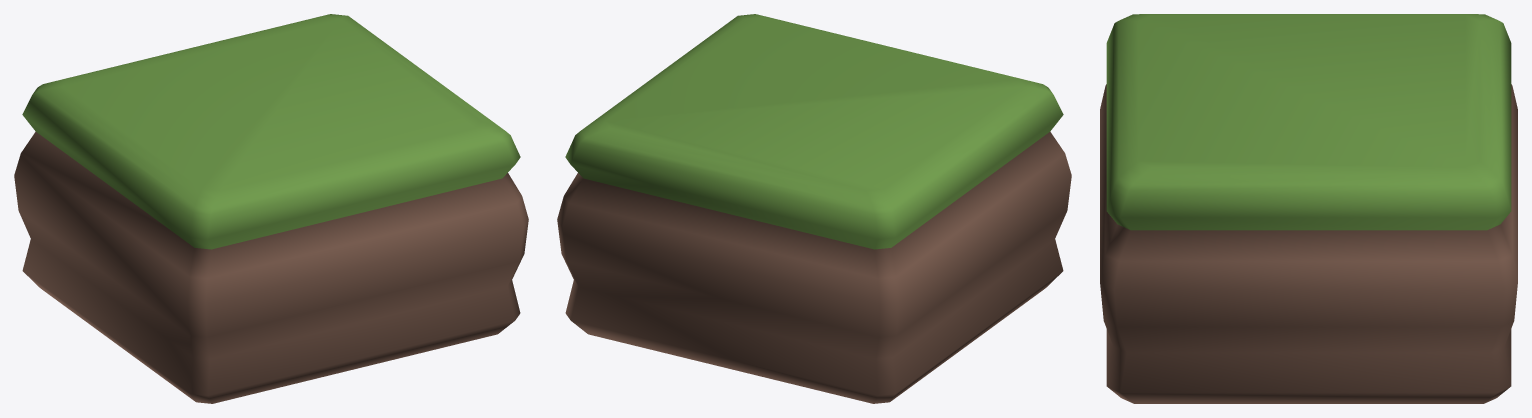
File: Platform _medium.fbx
3 views of the same model, side by side, from view 1: azimuth 30°, elevation 25°; view 2: azimuth 150°, elevation 25°; view 3: azimuth 270°, elevation 25° (orthographic). The views are drawn at different scales.
Visible parts, largest first — view 1: Platform_medium; view 2: Platform_medium; view 3: Platform_medium.
Boxes of the visible parts, x1=… form: Platform_medium: x1=14, y1=14, x2=528, y2=403; Platform_medium: x1=557, y1=14, x2=1071, y2=403; Platform_medium: x1=1100, y1=14, x2=1517, y2=403.
Bounding box in the file's own units: 3.74 × 2.14 × 3.54.
